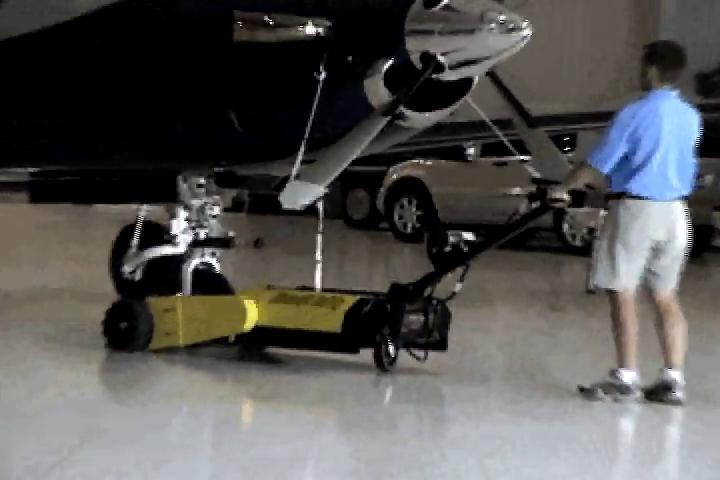victim: (548, 38, 708, 408)
